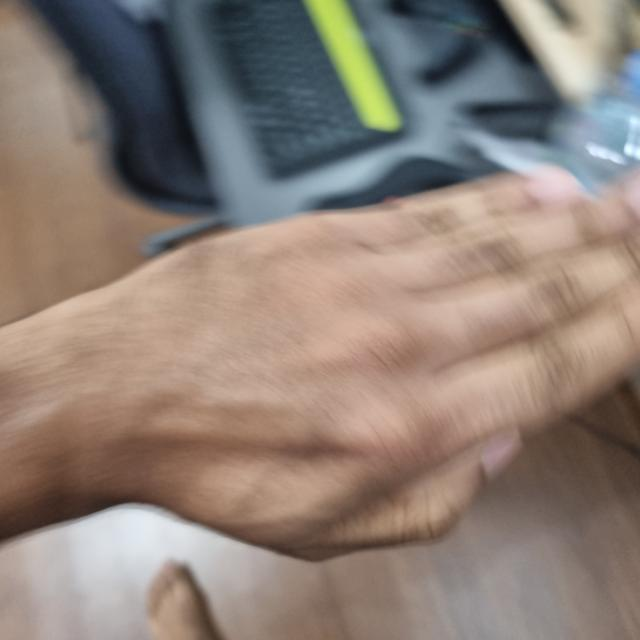Paper: (64, 177, 639, 539)
